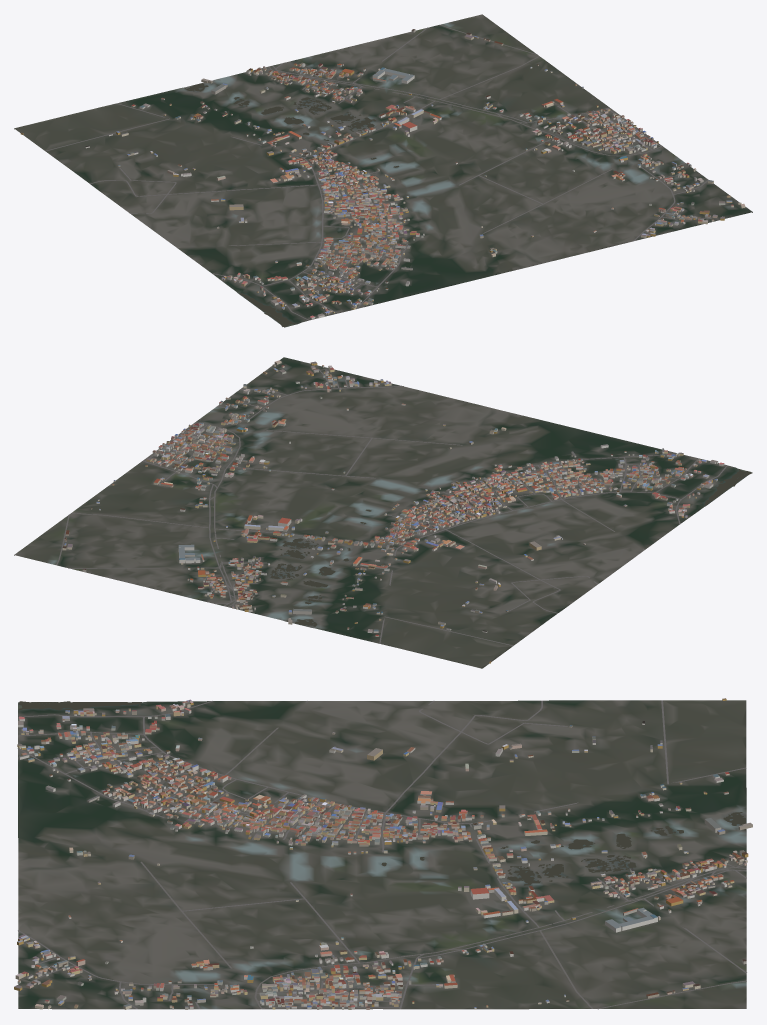
3 views of the same model, one above another, from view 1: azimuth 30°, elevation 25°; view 2: azimuth 150°, elevation 25°; view 3: azimuth 270°, elevation 25° (orthographic). The views are drawn at different scales.
Visible parts, largest first — view 1: ground, buildings, roads, water; view 2: ground, buildings, roads, water; view 3: ground, buildings, roads, water.
Boxes of the visible parts, x1,y1,x2,y2 form: ground: [14, 14, 752, 327]; buildings: [20, 29, 745, 319]; roads: [45, 24, 711, 320]; water: [184, 83, 399, 326]; ground: [14, 357, 751, 668]; buildings: [62, 360, 724, 663]; roads: [56, 369, 727, 645]; water: [270, 469, 752, 626]; ground: [18, 700, 746, 1009]; buildings: [14, 698, 752, 1009]; roads: [17, 700, 746, 1009]; water: [18, 701, 745, 885].
Size of the model in its own units: 1410 by 16.44 by 1422.
